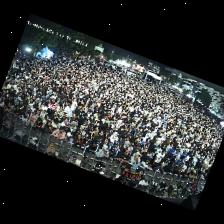person: (82, 141, 99, 162), (145, 138, 160, 160), (106, 130, 120, 148), (152, 150, 165, 169), (130, 142, 145, 158), (156, 157, 168, 172), (131, 127, 142, 143), (130, 153, 140, 170), (116, 149, 129, 162), (52, 127, 66, 139), (33, 117, 44, 132), (120, 142, 131, 156), (166, 146, 178, 158), (65, 101, 74, 117), (97, 145, 109, 157), (73, 133, 83, 147), (84, 129, 93, 144), (122, 127, 133, 139), (163, 161, 175, 172), (172, 163, 183, 174), (49, 111, 60, 122), (140, 156, 150, 168), (117, 126, 126, 139), (44, 120, 53, 133), (29, 109, 38, 121), (13, 105, 22, 117), (80, 124, 88, 137), (99, 138, 108, 149), (51, 119, 60, 130), (109, 146, 116, 160), (21, 111, 28, 125), (95, 131, 103, 143), (175, 152, 183, 164), (40, 107, 47, 120), (120, 136, 129, 146), (64, 133, 73, 143), (26, 117, 35, 127), (72, 128, 80, 138), (63, 122, 70, 133), (114, 141, 119, 156), (176, 156, 184, 165), (92, 125, 98, 137), (70, 114, 77, 124), (69, 122, 76, 132), (7, 106, 14, 116), (115, 120, 122, 130), (42, 115, 49, 125), (57, 106, 63, 117), (187, 170, 195, 178), (116, 176, 125, 183), (4, 103, 11, 111), (36, 107, 42, 116), (61, 119, 68, 126), (195, 172, 202, 179), (182, 170, 188, 178)
